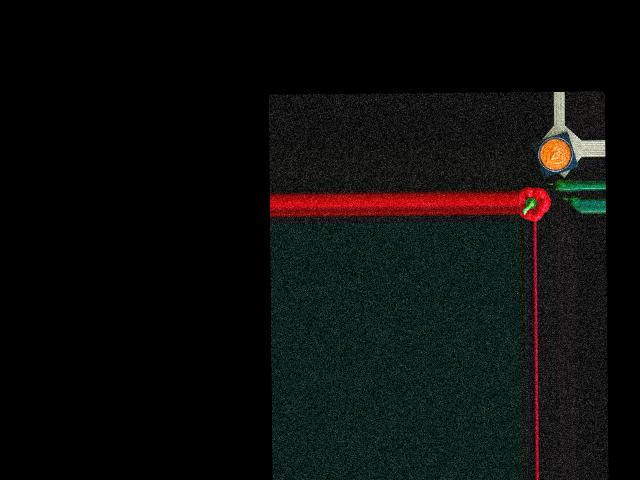bell_pepper: (518, 186, 549, 220)
